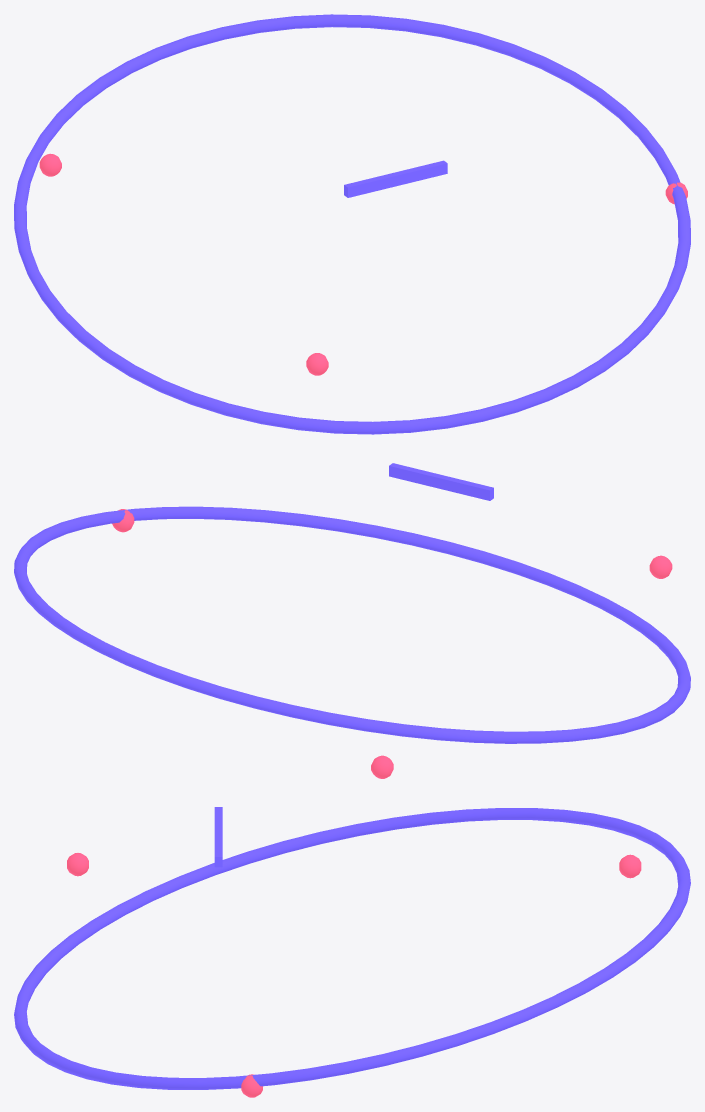
The model's file is avatar-nebulosa-kit-explorador.glb.
The picture shows the model from 3 angles, top to bottom: view 1: azimuth 30°, elevation 25°; view 2: azimuth 150°, elevation 25°; view 3: azimuth 270°, elevation 25°; orthographic projection. The views are drawn at different scales.
Parts seen in each view (by area): view 1: kit_nebulosa_explorador_ring, kit_nebulosa_explorador_visorAccent; view 2: kit_nebulosa_explorador_ring, kit_nebulosa_explorador_visorAccent; view 3: kit_nebulosa_explorador_ring, kit_nebulosa_explorador_visorAccent.
Boxes of the visible parts, x1,y1,x2,y2 form: kit_nebulosa_explorador_ring: (14,14,690,434); kit_nebulosa_explorador_visorAccent: (344,160,447,197); kit_nebulosa_explorador_ring: (14,506,690,743); kit_nebulosa_explorador_visorAccent: (389,463,493,500); kit_nebulosa_explorador_ring: (14,808,690,1089); kit_nebulosa_explorador_visorAccent: (214,807,222,867).
Bounding box in the file's own units: 1.06 × 0.3045 × 1.04.
